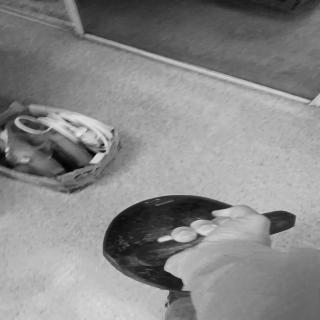kettlebell: (99, 194, 296, 296)
